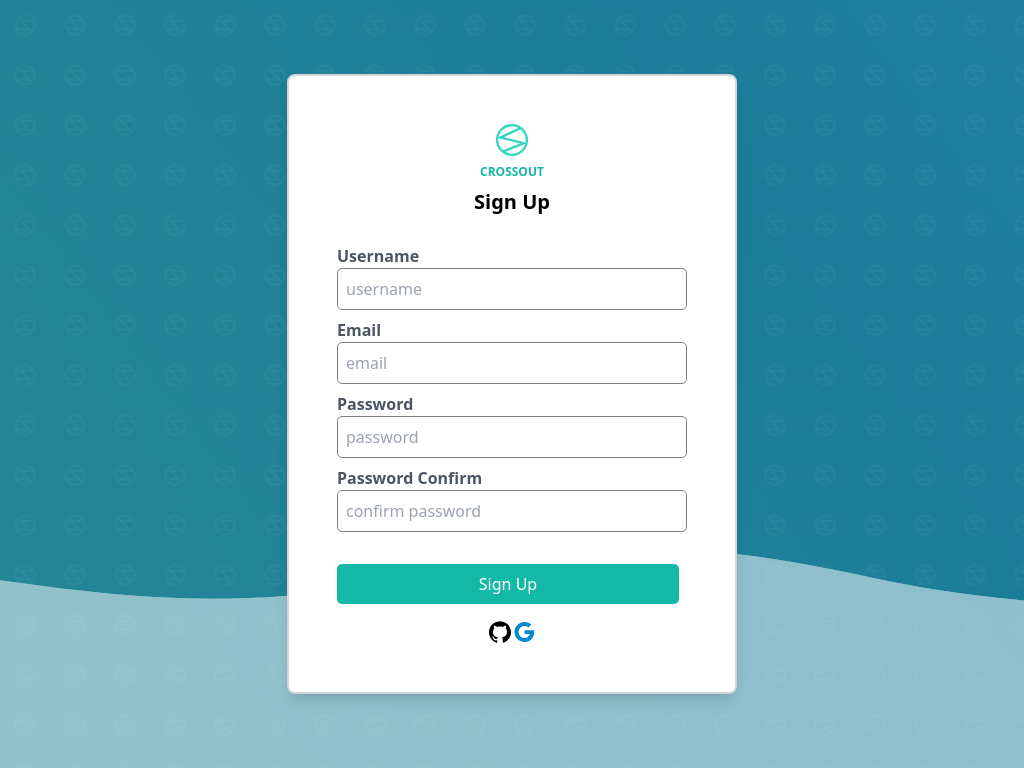
Test case: 3. Input validation test › Empty email input should be alerted and prevent sending request
The image size is (1024, 768).
Focus the field with id "email". click: (512, 363)
box: [337,342,687,384]
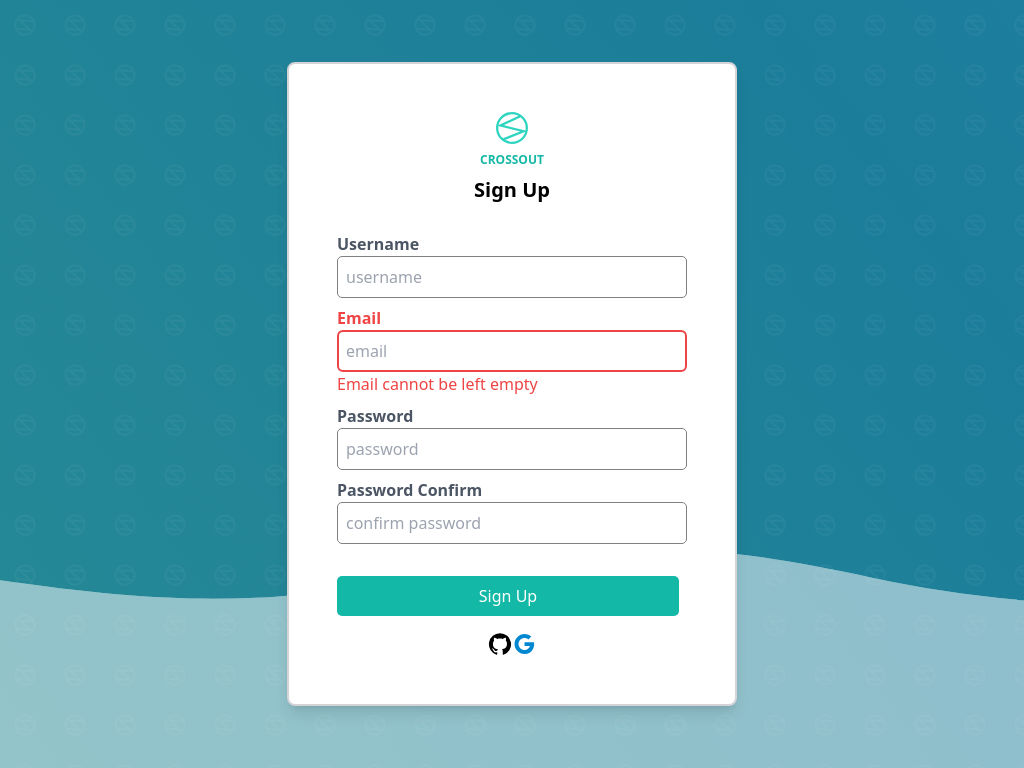
Now the text with id "email_valid_info" reads "Email cannot be left empty", box [337,373,538,395]
Click the button "Sign Up". click: (508, 596)
box: [337,576,679,616]
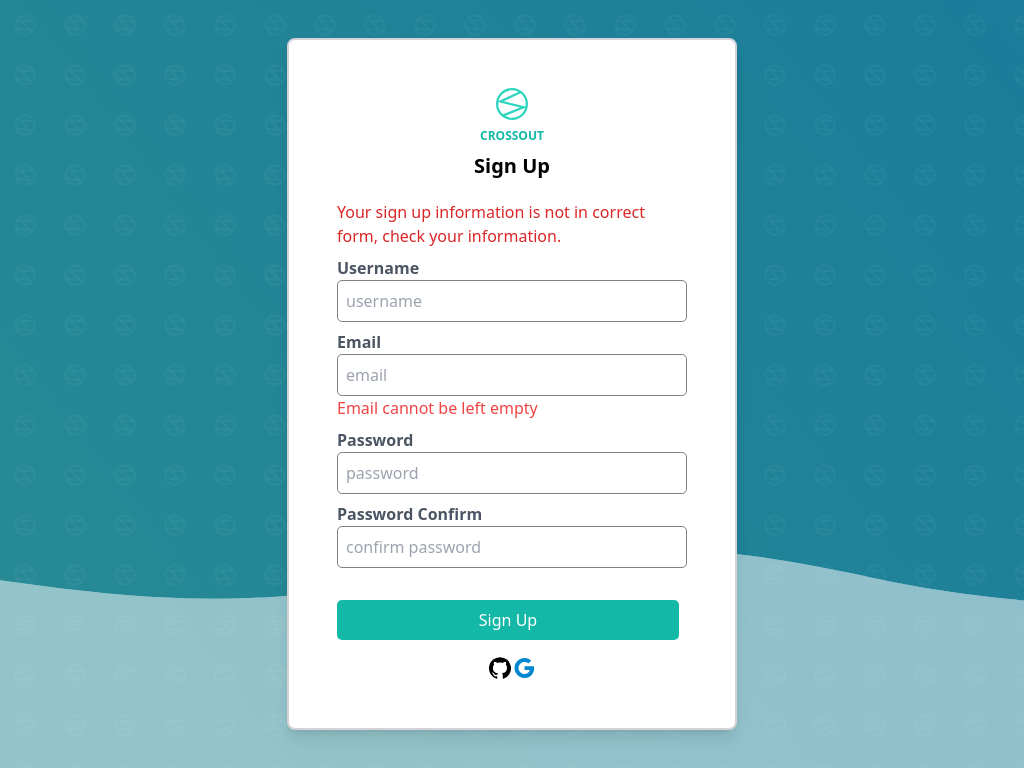
Now the text with id "err_message" reads "Your sign up information is not in correct form, check your information.", box [337,200,687,248]
